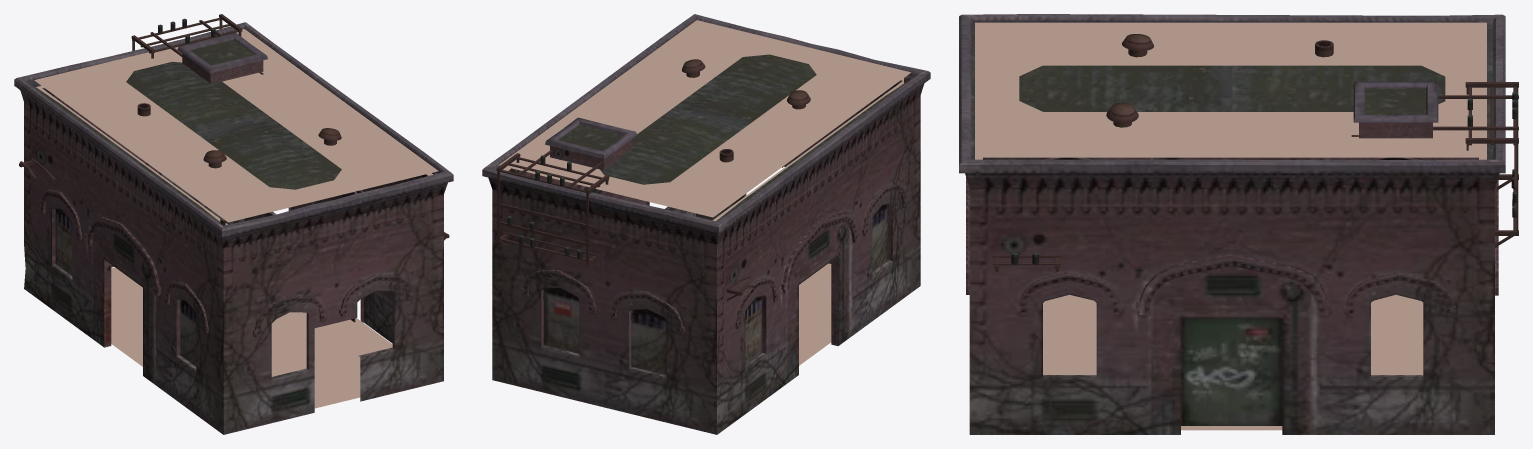
File: brick-substation.access-v6.lod1.glb
3 renders of one model, left to right at view 1: azimuth 30°, elevation 25°; view 2: azimuth 150°, elevation 25°; view 3: azimuth 270°, elevation 25°, orthographic. The views are drawn at different scales.
Visible parts, largest first — view 1: BrickSubstation00__0, Walkable floors and stairs; view 2: BrickSubstation00__0, Walkable floors and stairs; view 3: BrickSubstation00__0, Walkable floors and stairs.
Part boxes in pixels (x1=…): BrickSubstation00__0: x1=14, y1=14, x2=453, y2=434; Walkable floors and stairs: x1=34, y1=29, x2=438, y2=408; BrickSubstation00__0: x1=482, y1=14, x2=930, y2=434; Walkable floors and stairs: x1=499, y1=20, x2=910, y2=365; BrickSubstation00__0: x1=959, y1=14, x2=1518, y2=434; Walkable floors and stairs: x1=975, y1=22, x2=1486, y2=430.
Bounding box in the file's own units: 7.1 × 6.16 × 10.5.
2 materials, 1 textured.
